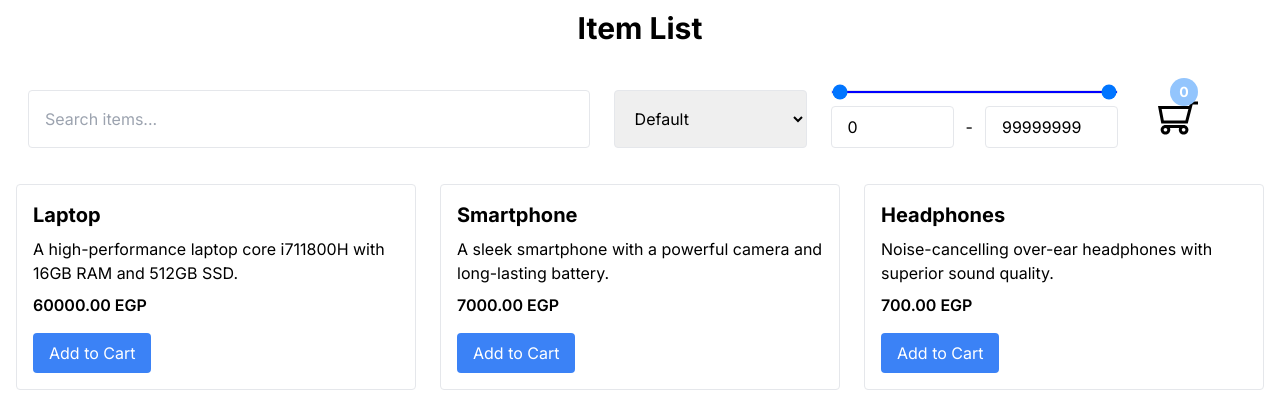
Test case: filters items based on search query
Type "Laptop" into the field with placeholder "Search items..." at [309, 119], box [28,90,590,148]
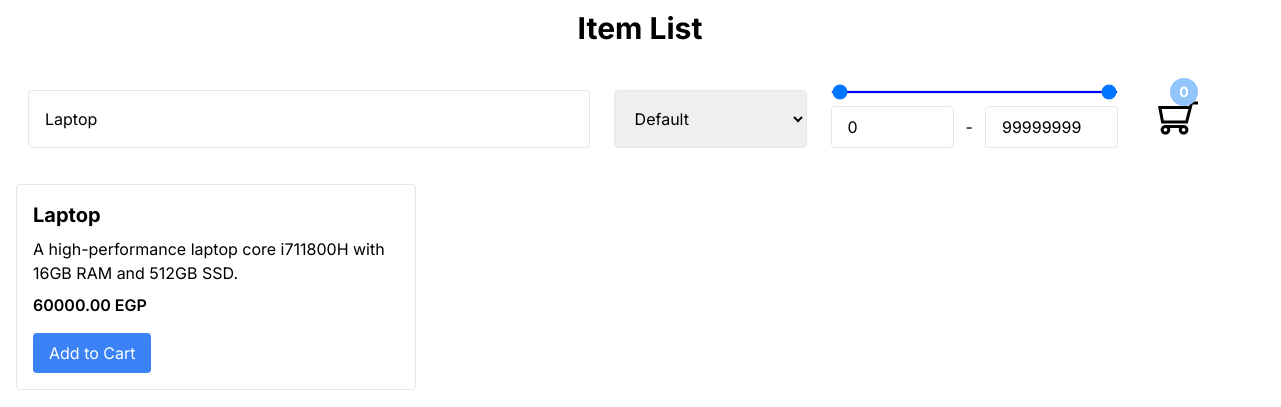
Check: the heading "Laptop" is shown, box [33,203,100,227]
Check: the heading "Smartphone" is gone
Check: the heading "Headphones" is gone
